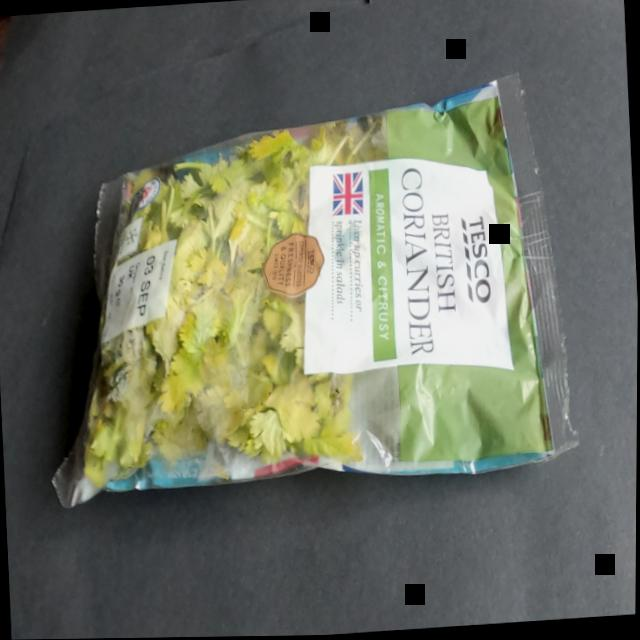Cilantro: (11, 57, 625, 557)
